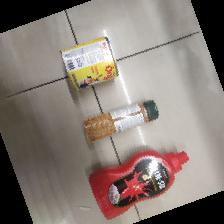Chinsu: (87, 148, 191, 221)
Ong_tho: (59, 36, 119, 94)
TayNinh_green: (82, 98, 159, 148)
